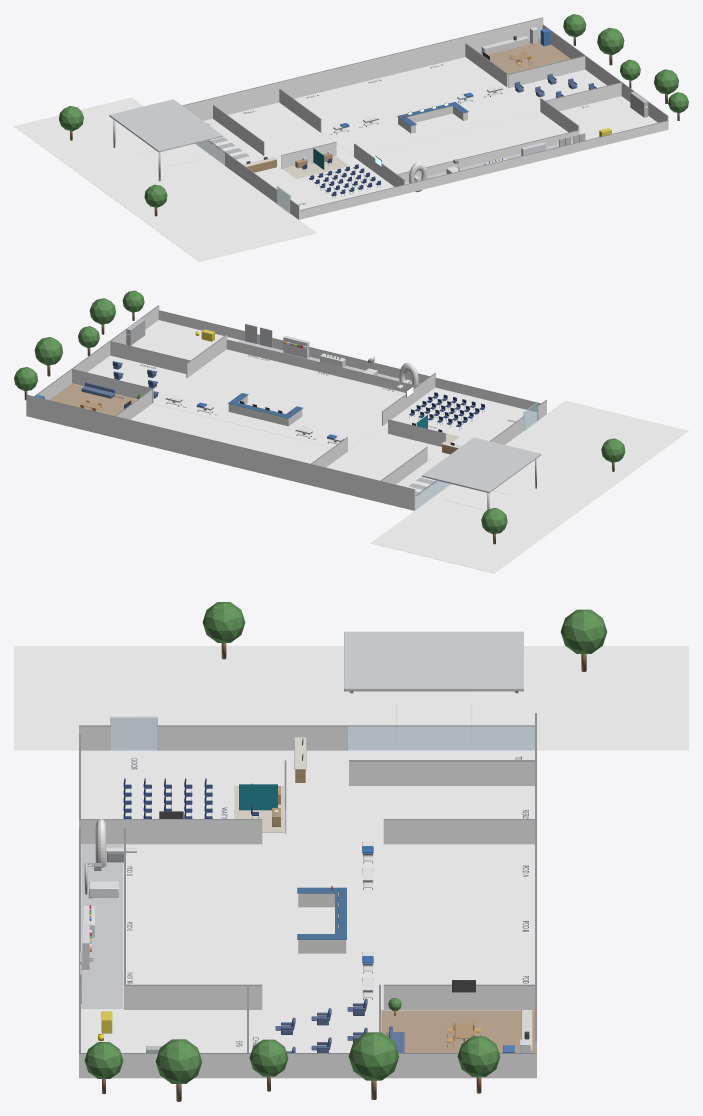
Rendered from dept_static.glb.
3 views of the same model, one above another, from view 1: azimuth 30°, elevation 25°; view 2: azimuth 150°, elevation 25°; view 3: azimuth 270°, elevation 25° (orthographic). The views are drawn at different scales.
Visible parts, largest first — view 1: floorzone, floorzone.002, wall, floorzone.001, wall.002, canopy, floorzone.005, wall.014, wall.001, wall.012, wall.013, wall.004 (+15 smaller); view 2: floorzone, floorzone.002, wall, floorzone.001, canopy, wall.002, wall.014, wall.001, floorzone.005, wall.013, wall.012, wall.007 (+13 smaller); view 3: floorzone, floorzone.002, floorzone.001, canopy, wall.001, floorzone.004, floorzone.005, wall.003, wall.006, wall.004, wall.009, wall.008 (+13 smaller).
Boxes of the visible parts, x1,y1,x2,y2 form: floorzone: [195, 57, 657, 212]; floorzone.002: [14, 97, 316, 261]; wall: [183, 18, 543, 120]; floorzone.001: [322, 88, 539, 155]; wall.002: [298, 121, 668, 219]; canopy: [109, 99, 222, 152]; floorzone.005: [480, 38, 570, 74]; wall.014: [391, 131, 579, 184]; wall.001: [542, 25, 668, 122]; wall.012: [508, 56, 585, 88]; wall.013: [544, 83, 621, 114]; wall.004: [225, 153, 278, 203]; floorzone: [73, 320, 536, 509]; floorzone.002: [370, 400, 688, 573]; wall: [26, 395, 415, 510]; floorzone.001: [153, 378, 381, 449]; canopy: [422, 437, 541, 492]; wall.002: [158, 311, 539, 411]; wall.014: [226, 340, 415, 392]; wall.001: [26, 306, 159, 406]; floorzone.005: [50, 383, 136, 415]; wall.013: [110, 341, 189, 373]; wall.012: [72, 369, 153, 402]; wall.007: [388, 420, 446, 446]; floorzone: [81, 750, 534, 1052]; floorzone.002: [14, 646, 688, 750]; floorzone.001: [263, 844, 382, 1008]; canopy: [344, 631, 523, 691]; wall.001: [79, 1054, 536, 1078]; floorzone.004: [81, 844, 123, 1008]; floorzone.005: [381, 1010, 534, 1052]; wall.003: [347, 726, 534, 750]; wall.006: [349, 761, 534, 785]; wall.004: [157, 726, 347, 750]; wall.009: [79, 820, 262, 844]; wall.008: [383, 820, 534, 844].
Bounding box in the file's own units: 73.28 × 5.76 × 45.
